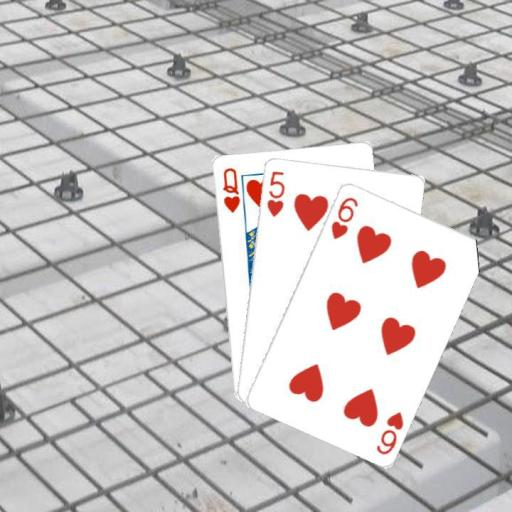5H: (263, 168, 286, 218)
6H: (327, 194, 360, 241), (373, 408, 405, 456)
QH: (219, 164, 241, 214)
